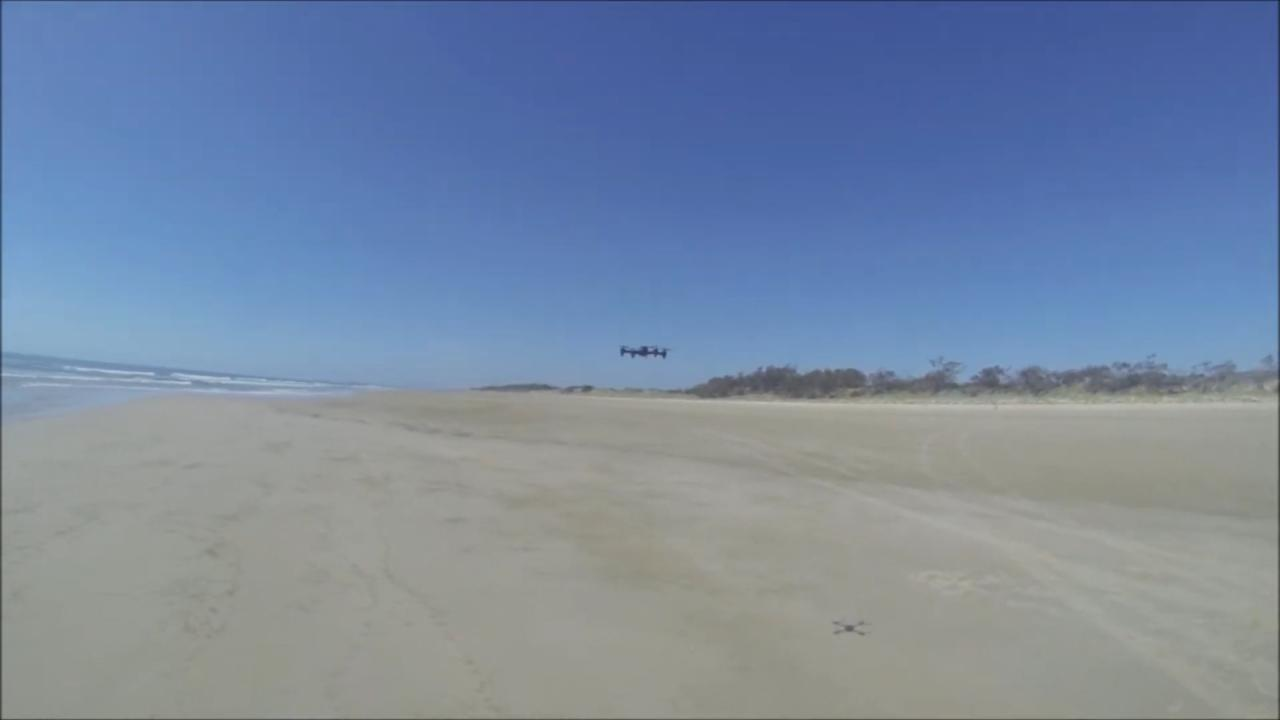Drone: (612, 337, 673, 365)
